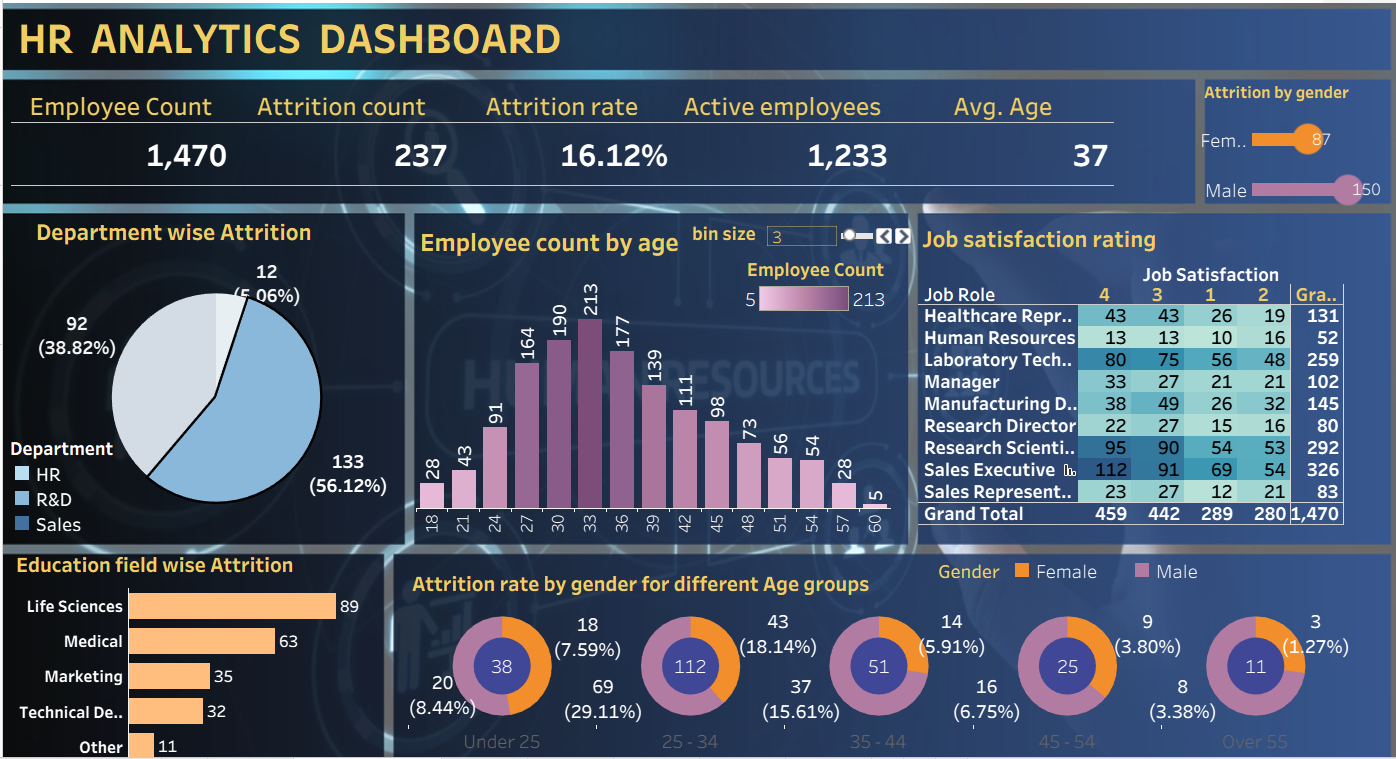

The page's visual inventory and layout, read from the dashboard file:
{"tool":"tableau","page":{"name":"Dashboard 1","canvas":[1000,1000],"units":"permille","ordinal":0},"visuals":[{"type":"title","box":[6.1,14.1,987.9,102.5]},{"type":"text","box":[8.3,21.1,868.9,59.3]},{"type":"worksheet","title":"kpi","mark":"Automatic","box":[6.1,110.7,835.6,138.3]},{"type":"worksheet","title":"Sheet 3","mark":"Pie","box":[22,281.9,278.8,429.5]},{"type":"worksheet","title":"Sheet 5","mark":"Automatic","rows":["Employee Count"],"cols":["Age (bin)"],"box":[312.9,293.8,359.9,417.7]},{"type":"parameter","param":"[Parameters].[Parameter 1]","box":[522,296.4,168.2,46.1]},{"type":"legend","title":"Sheet 5","param":"[federated.0179c5q1xz759u14rlnoo175wu83].[sum:Employee Count:qk]","box":[559.1,339.9,112.9,77.7]},{"type":"legend","title":"Sheet 3","param":"[federated.0179c5q1xz759u14rlnoo175wu83].[none:Department:nk]","box":[5.3,575.8,106.1,133.1]},{"type":"legend","title":"Sheet 8","param":"[federated.0179c5q1xz759u14rlnoo175wu83].[none:Gender:nk]","box":[708.3,737.8,289.4,58]}]}

Visuals, with their boxes on the dashboard's canvas, which has no fixed pixel size, in thousandths of its width and height (x1, y1, x2, y2). These are canvas units, not pixel positions in the 1396x759 screenshot, which may show the page scaled, cropped or inside an application window:
title: <bbox>6, 14, 994, 117</bbox>
text: <bbox>8, 21, 877, 80</bbox>
"kpi" worksheet: <bbox>6, 111, 842, 249</bbox>
"Sheet 3" worksheet (Pie marks): <bbox>22, 282, 301, 711</bbox>
"Sheet 5" worksheet: <bbox>313, 294, 673, 712</bbox>
parameter: <bbox>522, 296, 690, 342</bbox>
"Sheet 5" legend: <bbox>559, 340, 672, 418</bbox>
"Sheet 3" legend: <bbox>5, 576, 111, 709</bbox>
"Sheet 8" legend: <bbox>708, 738, 998, 796</bbox>
